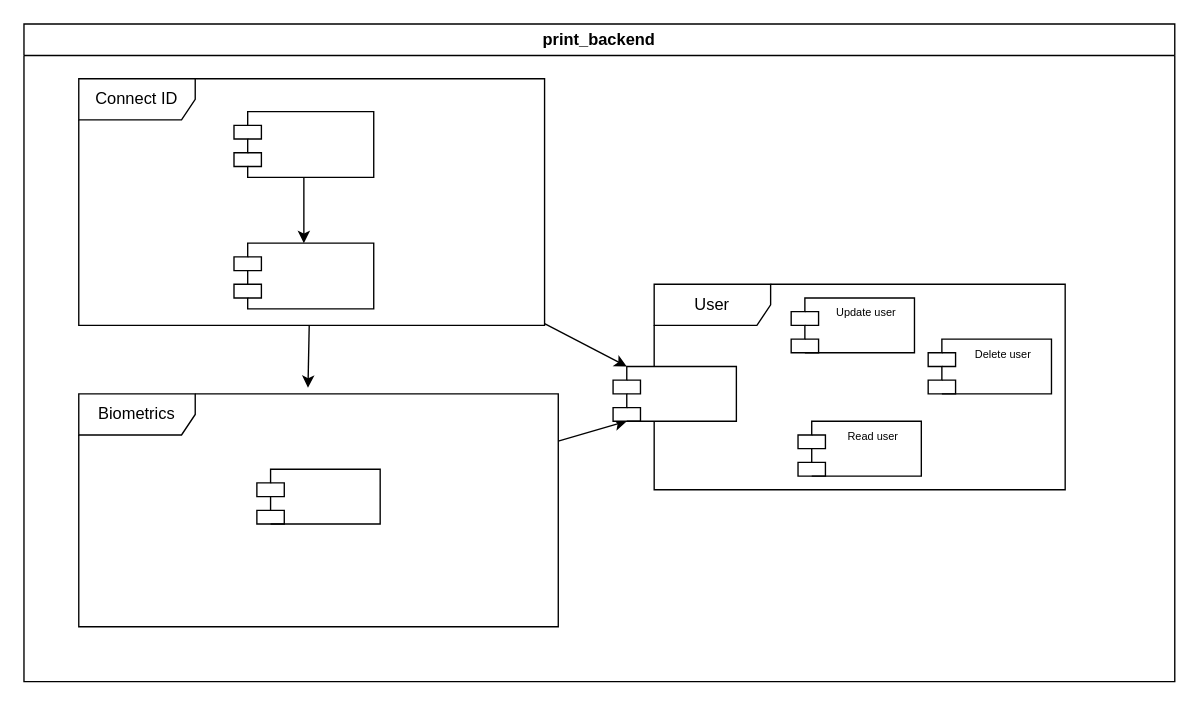
Some shapes in this 1199 by 706 pixel diagram are drawn without their labels. Each missing label, with the centre of its shape:
"Connect Internet Identity" belongs at (303,143).
"Create user" belongs at (674,393).
"Validate biometrics" belongs at (318,496).
"Validate Internet Identity" belongs at (303,275).
